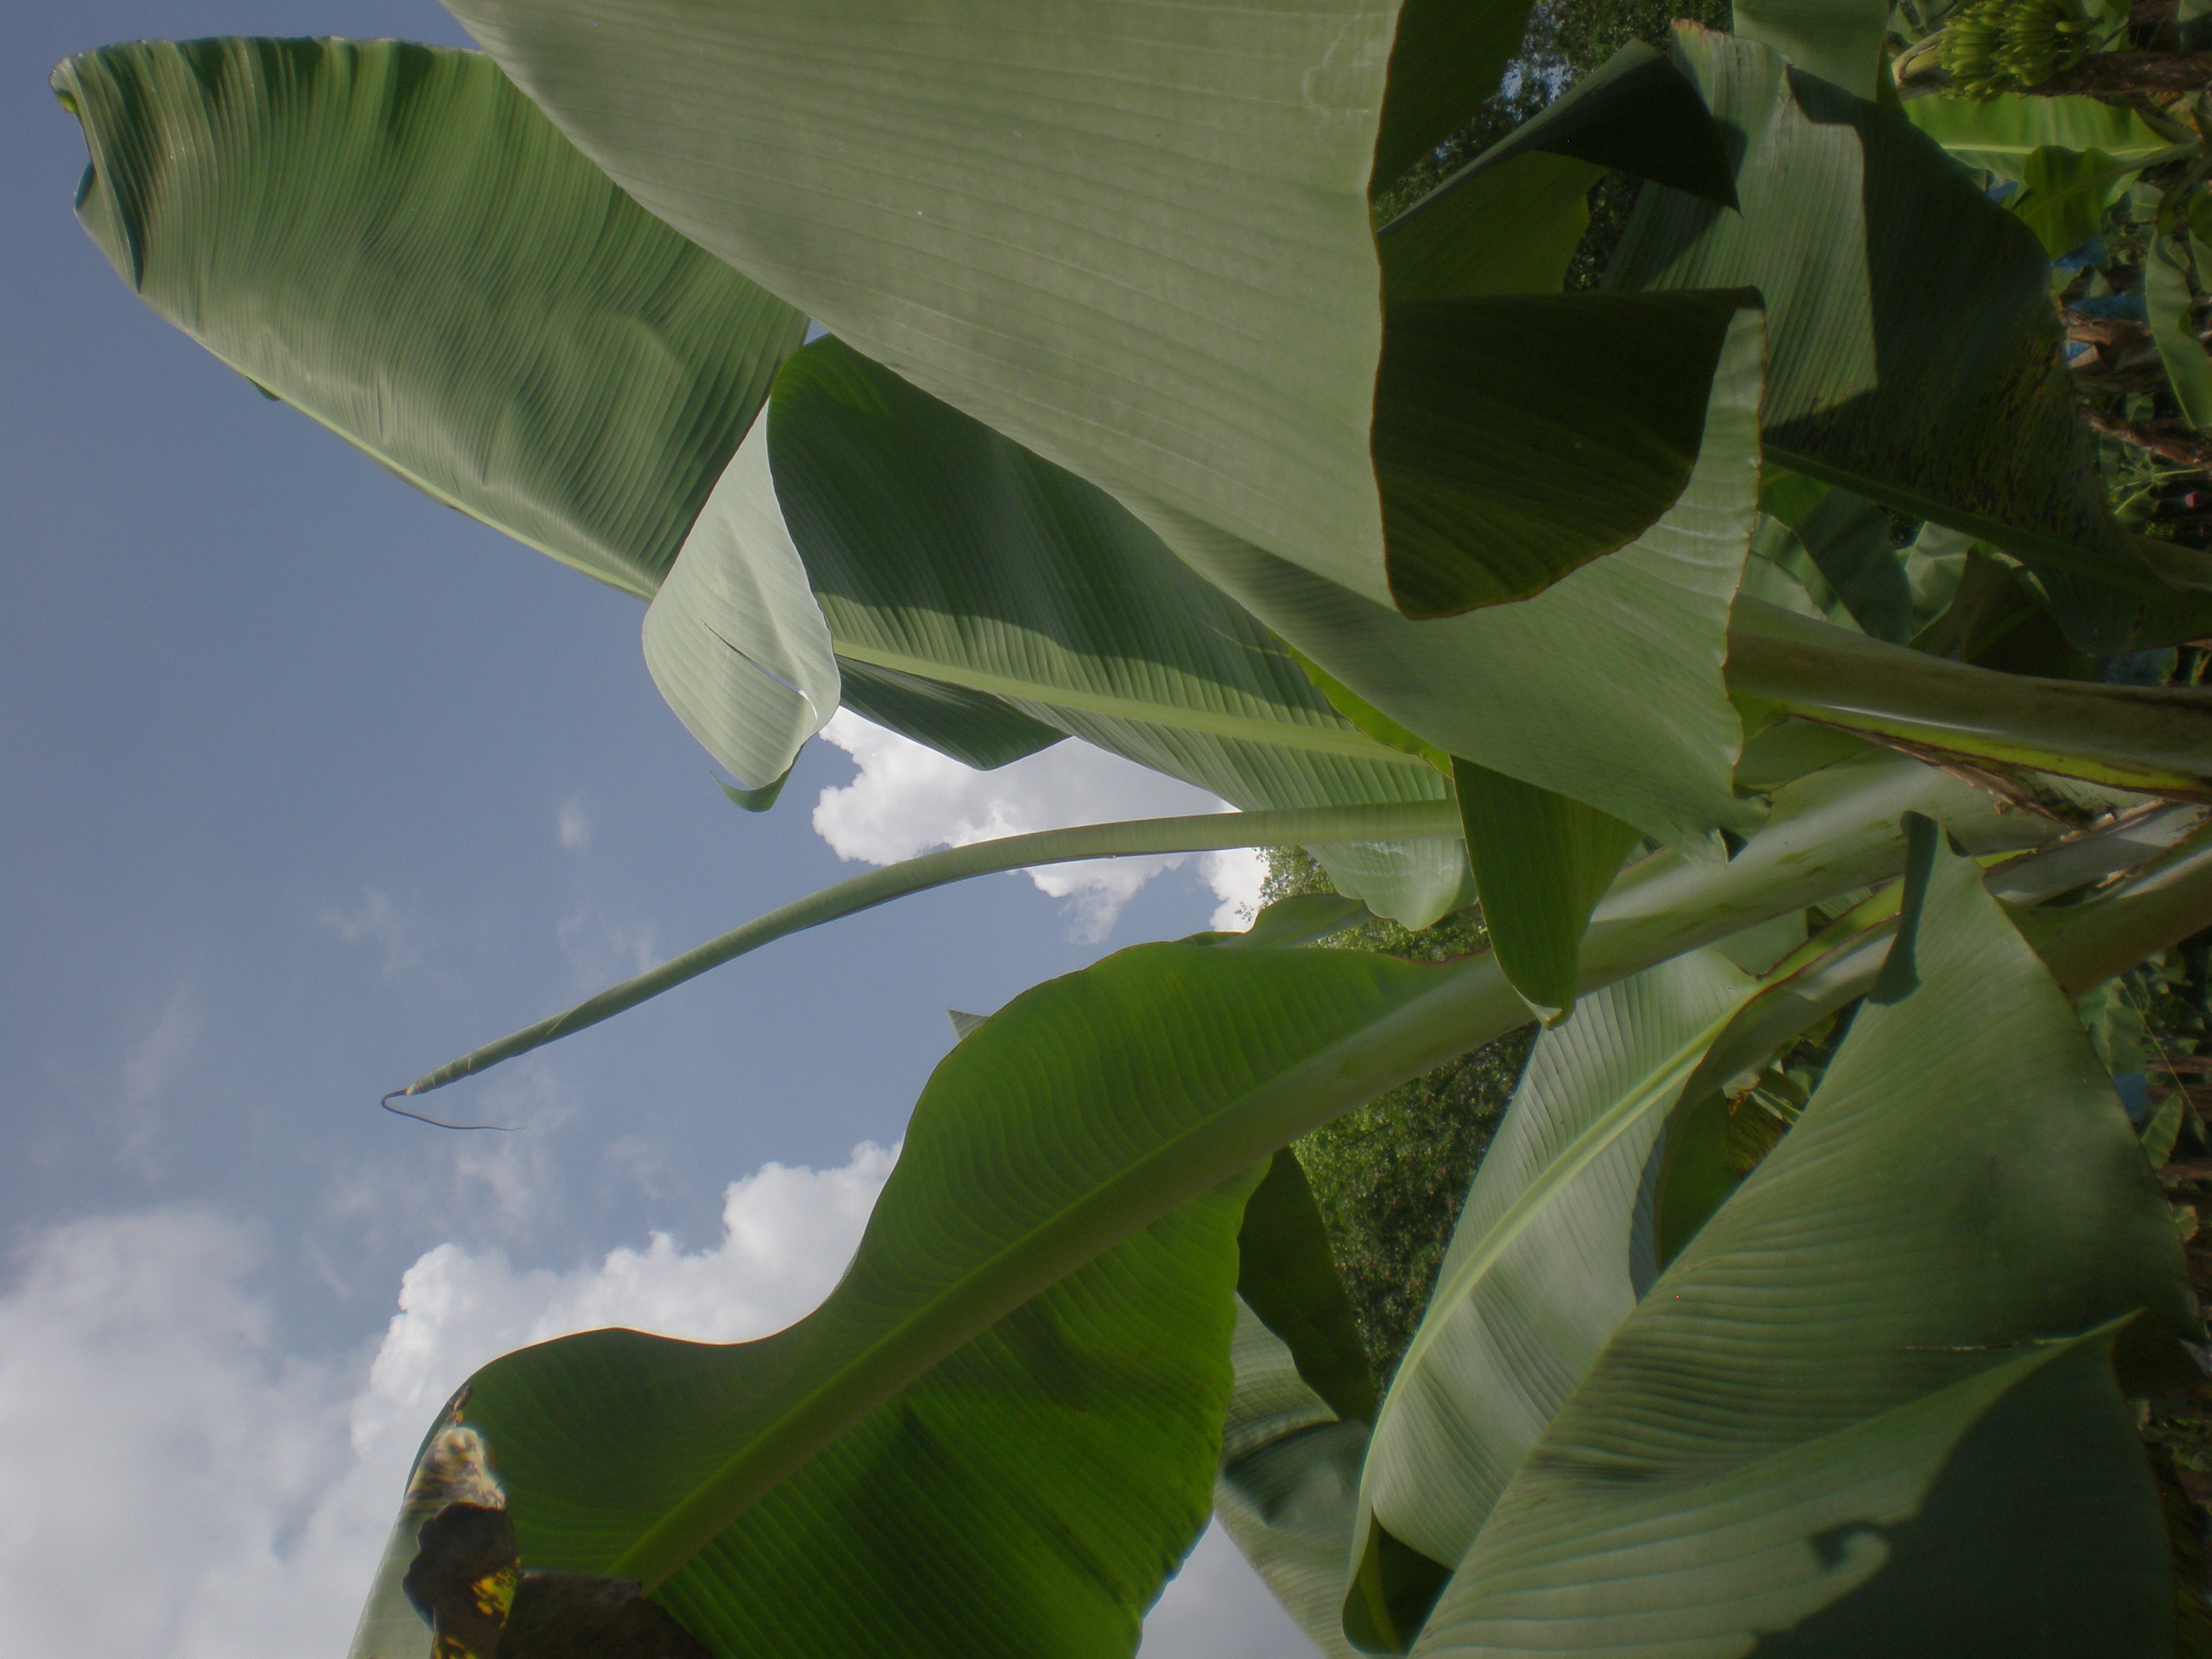candleleafs: (373, 796, 1453, 1133)
